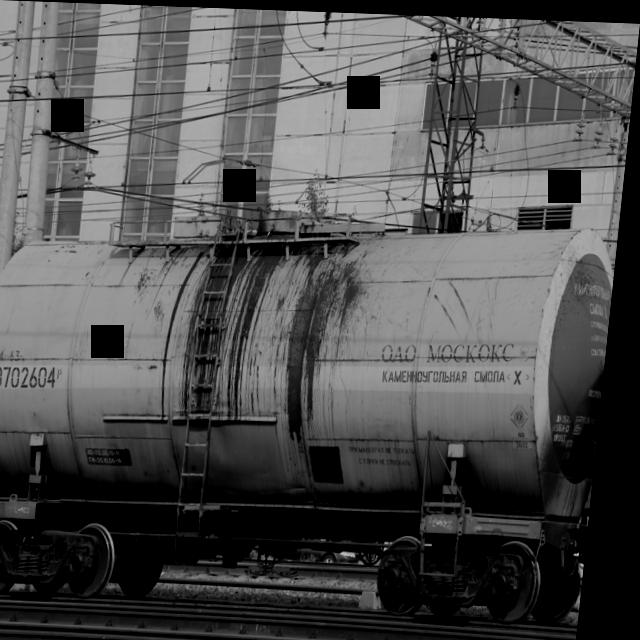tank: (0, 156, 627, 625)
